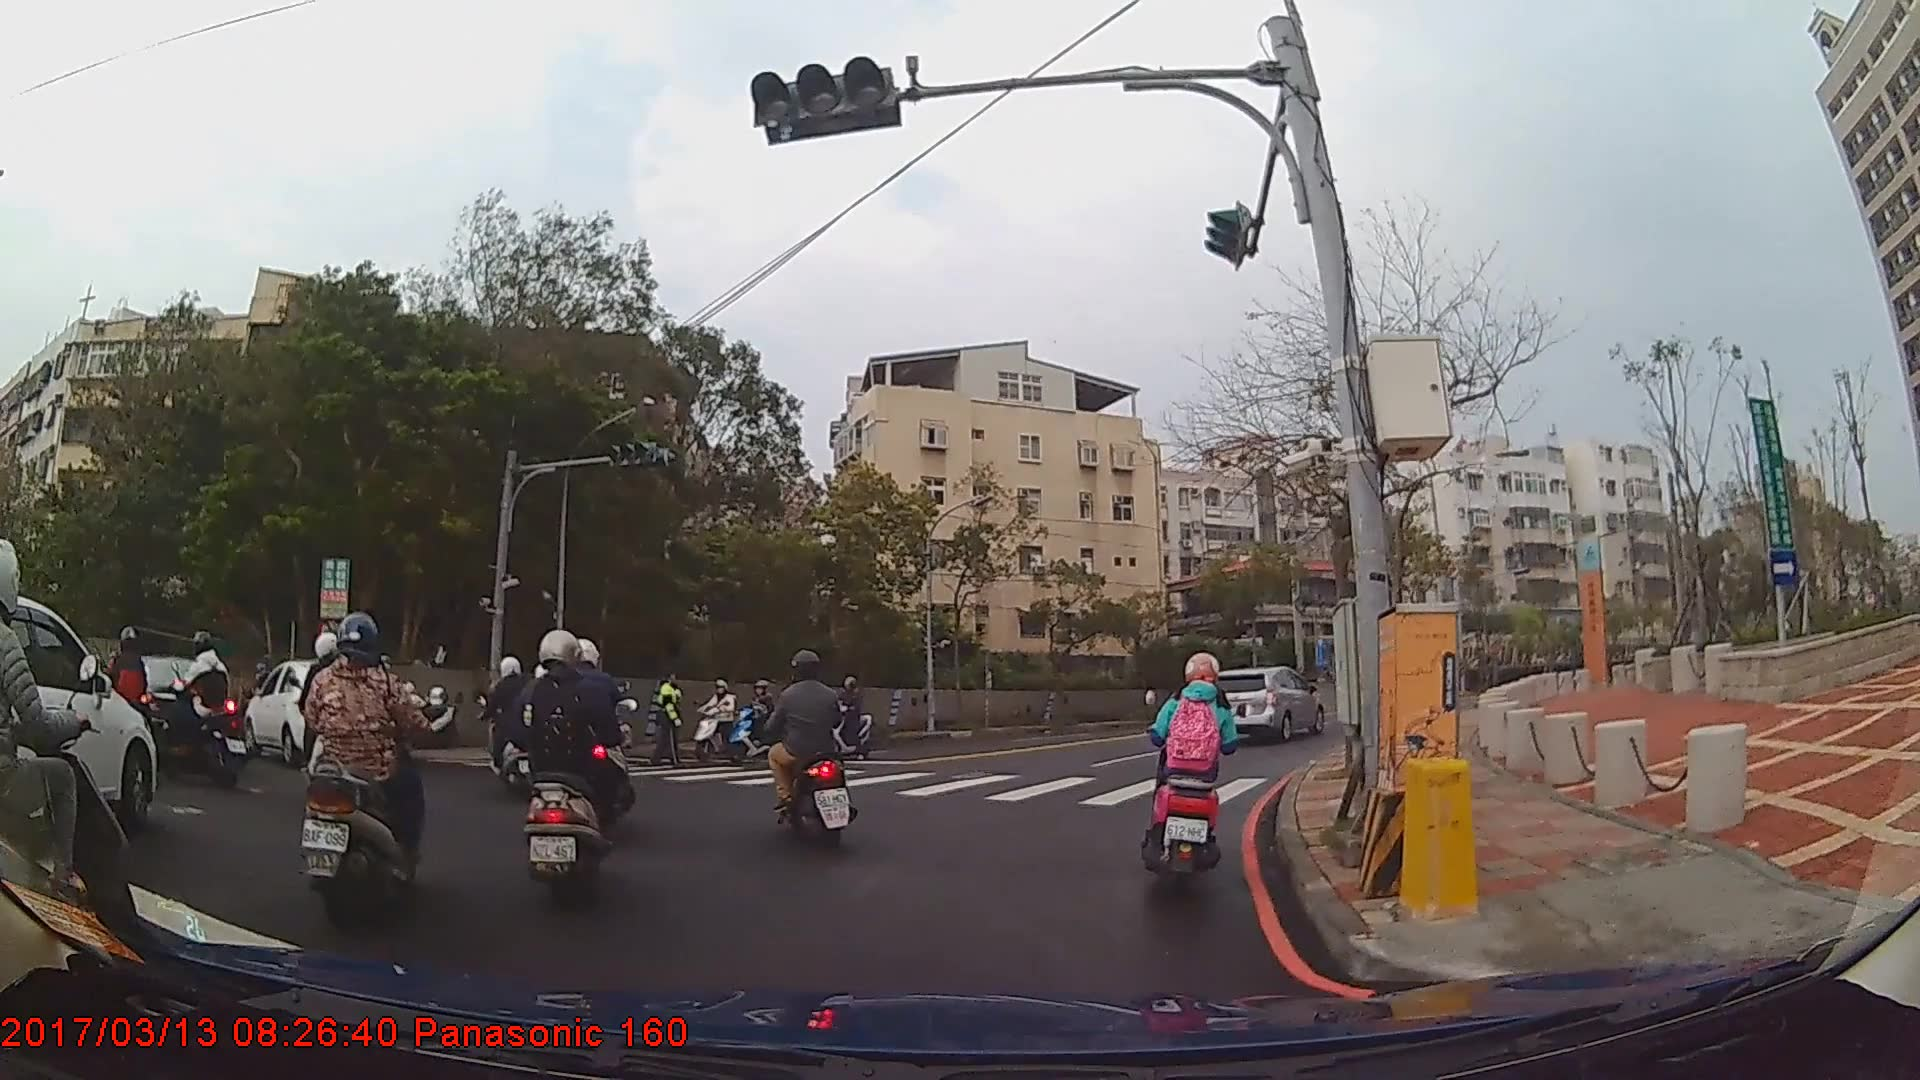pedestrian: (648, 671, 691, 773)
rider: (1, 543, 147, 1007), (294, 616, 431, 925), (507, 629, 625, 903), (1145, 650, 1242, 888), (763, 649, 860, 851), (554, 640, 635, 831), (473, 658, 550, 797), (167, 630, 235, 787), (96, 628, 158, 767), (820, 678, 875, 763), (730, 680, 789, 761), (692, 679, 745, 760)
vehicle: (0, 591, 156, 828), (244, 661, 374, 766), (122, 652, 239, 763), (1202, 664, 1324, 744)
